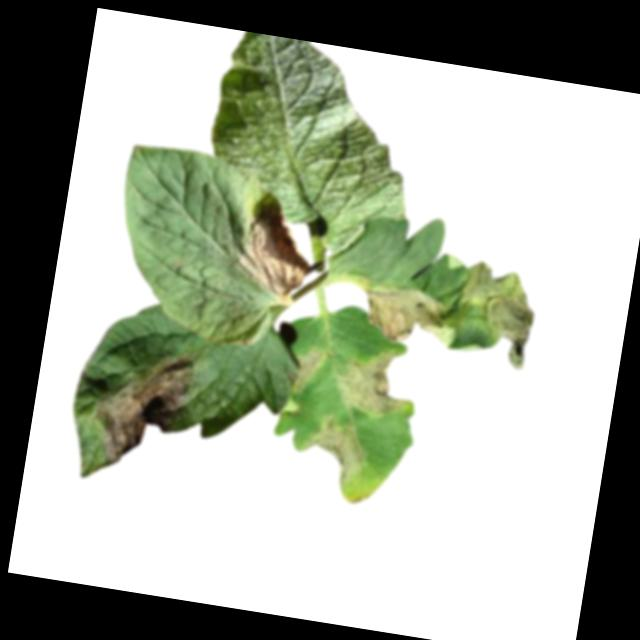Late_blight: (87, 339, 199, 479), (450, 258, 543, 370), (225, 196, 318, 304), (351, 275, 462, 352), (325, 340, 422, 424), (290, 410, 371, 490), (281, 342, 326, 395)
healthy: (194, 27, 428, 238)
